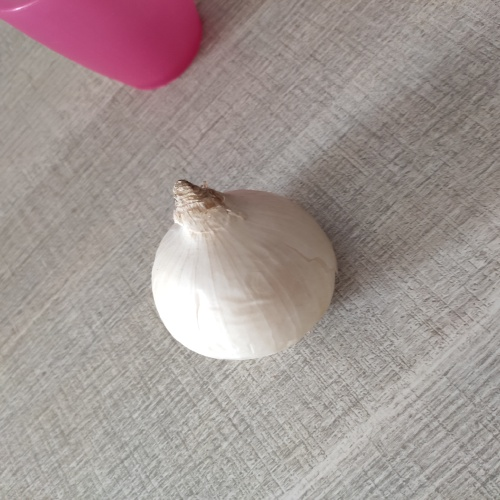cipolla: (145, 176, 355, 367)
